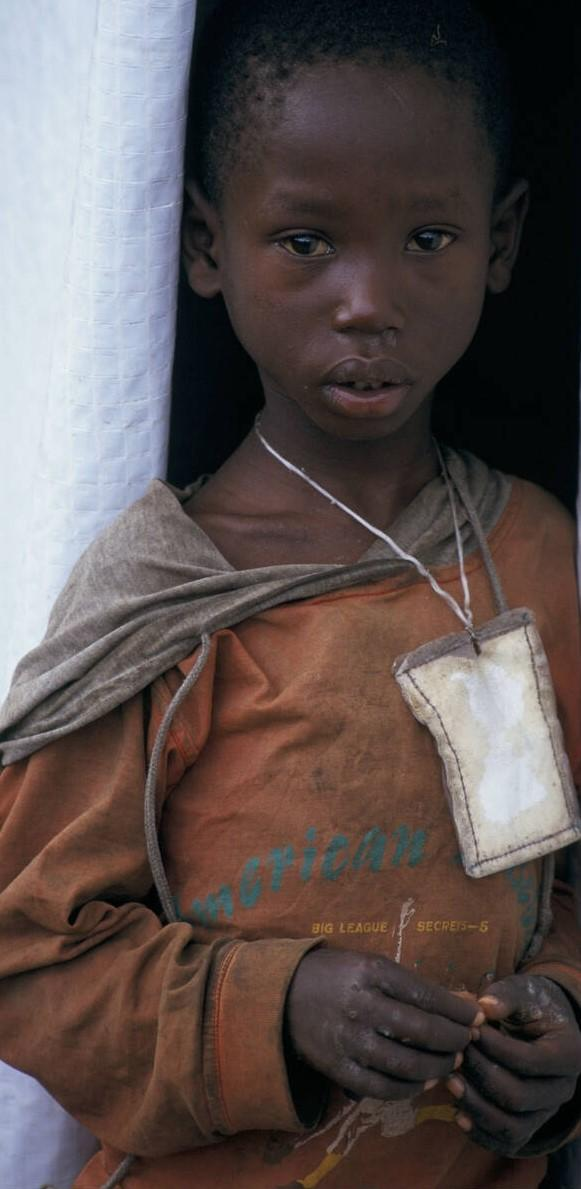Stunting: (180, 40, 581, 560)
